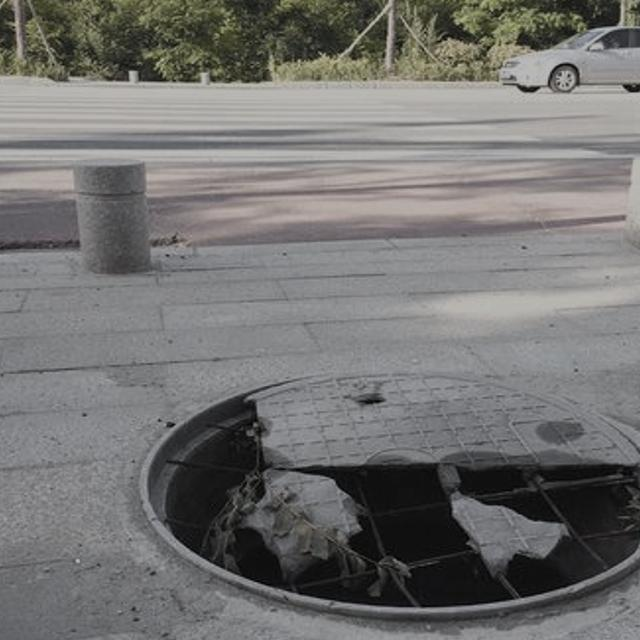broke: (117, 322, 640, 640)
